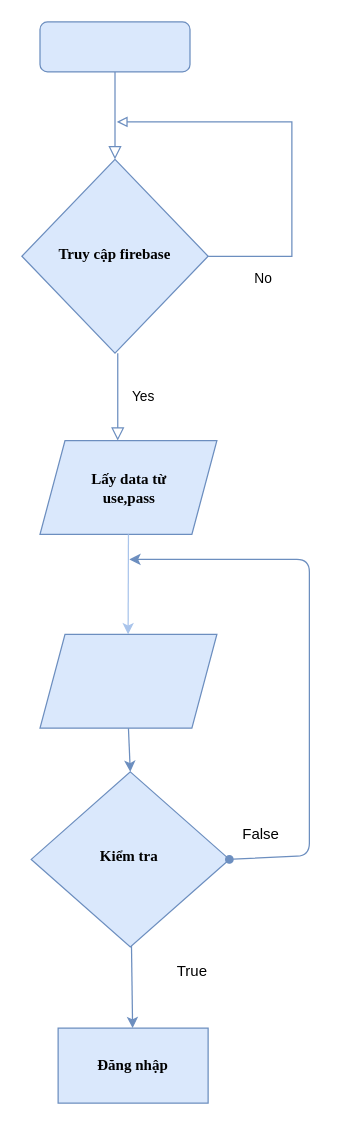
This 343x1125 diagram has some shape labels left out. The centre of each missing label's shape, as x and y in pixels:
BẮT ĐẦU: pixel 114 46
Nhập username password: pixel 128 680
